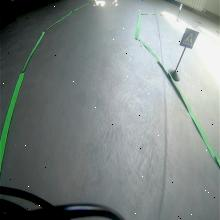crosswalk: (179, 27, 199, 49)
